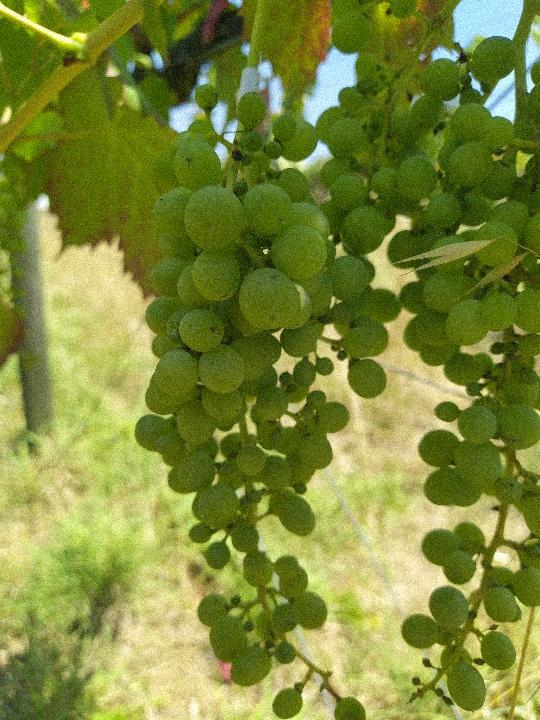grape: (131, 82, 400, 714)
